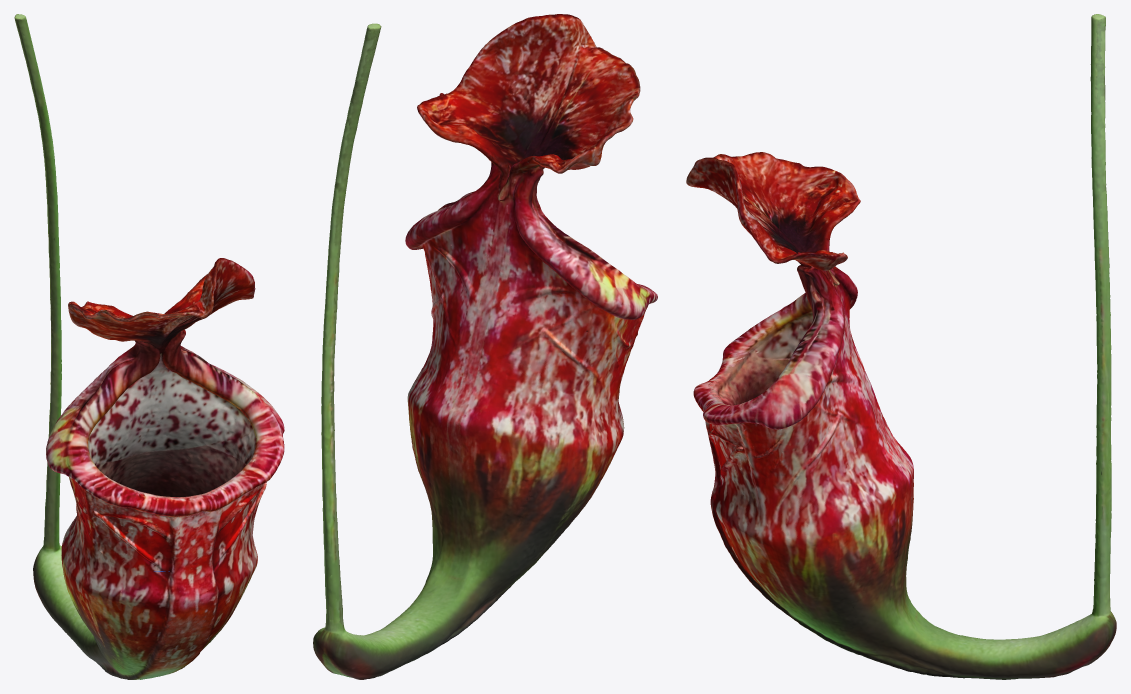
File: hamiguitan pitcher.glb
The picture shows the model from 3 angles, left to right: view 1: azimuth 30°, elevation 25°; view 2: azimuth 150°, elevation 25°; view 3: azimuth 270°, elevation 25°; orthographic projection. The views are drawn at different scales.
Parts seen in each view (by area): view 1: Object_6.001, Object_5.001, Object_4.001, Object_7.001; view 2: Object_7.001, Object_5.001, Object_4.001, Object_6.001; view 3: Object_5.001, Object_4.001, Object_7.001, Object_6.001.
Boxes of the visible parts, <box> form: Object_6.001: <box>28,50,284,679</box>; Object_5.001: <box>33,258,284,679</box>; Object_4.001: <box>37,84,284,668</box>; Object_7.001: <box>14,14,277,679</box>; Object_7.001: <box>313,23,642,679</box>; Object_5.001: <box>314,14,657,679</box>; Object_4.001: <box>321,17,645,671</box>; Object_6.001: <box>331,15,657,651</box>; Object_5.001: <box>698,157,1111,679</box>; Object_4.001: <box>686,102,1111,679</box>; Object_7.001: <box>768,14,1116,678</box>; Object_6.001: <box>687,58,1105,677</box>.
Bounding box in the file's own units: 6.65 × 17.72 × 10.68.
Materials: 2 (2 with a texture image).
